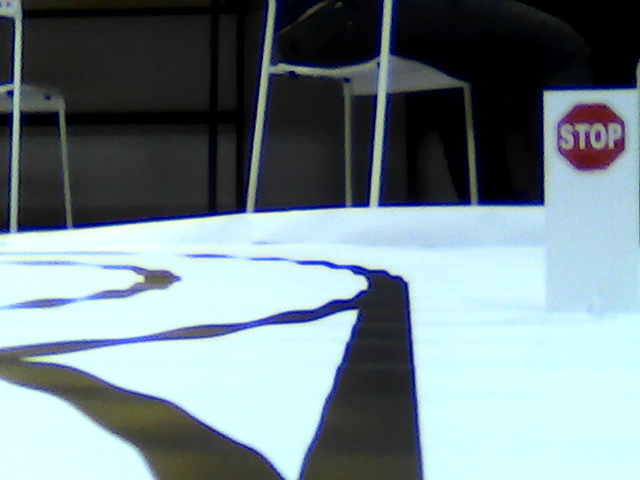Stop: (556, 103, 632, 172)
